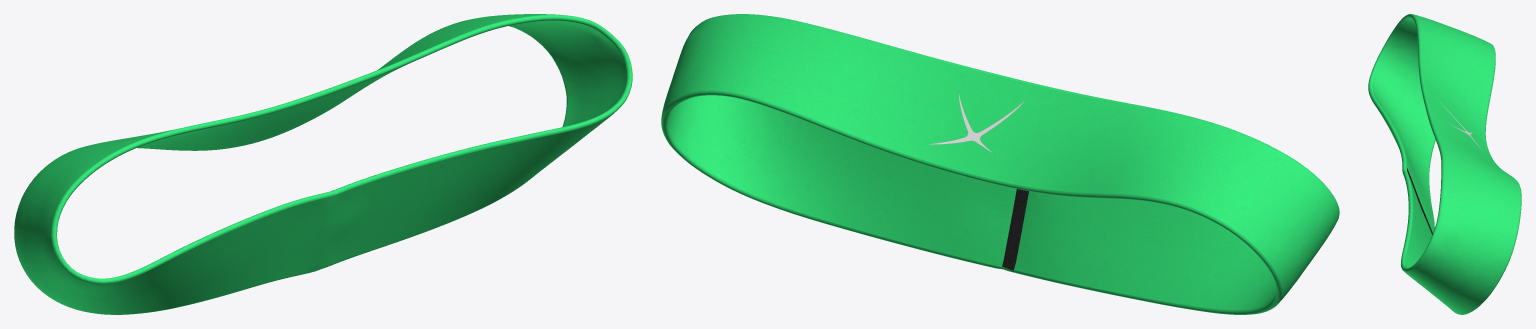
File: strip top flatttt.glb
3 views of the same model, side by side, from view 1: azimuth 30°, elevation 25°; view 2: azimuth 150°, elevation 25°; view 3: azimuth 270°, elevation 25° (orthographic). The views are drawn at different scales.
Parts seen in each view (by area): view 1: Cloth; view 2: Cloth; view 3: Cloth.
Boxes of the visible parts, left/top/right/bottom form: Cloth: left=14, top=14, right=632, bottom=314; Cloth: left=661, top=14, right=1339, bottom=314; Cloth: left=1368, top=14, right=1521, bottom=314.
Size of the model in its own units: 0.349 by 0.1096 by 0.0962.
Materials: 3 (3 with a texture image).
